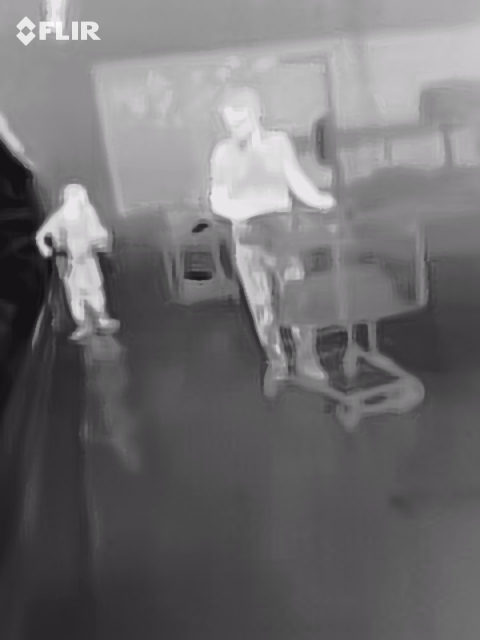head: (216, 89, 259, 141)
